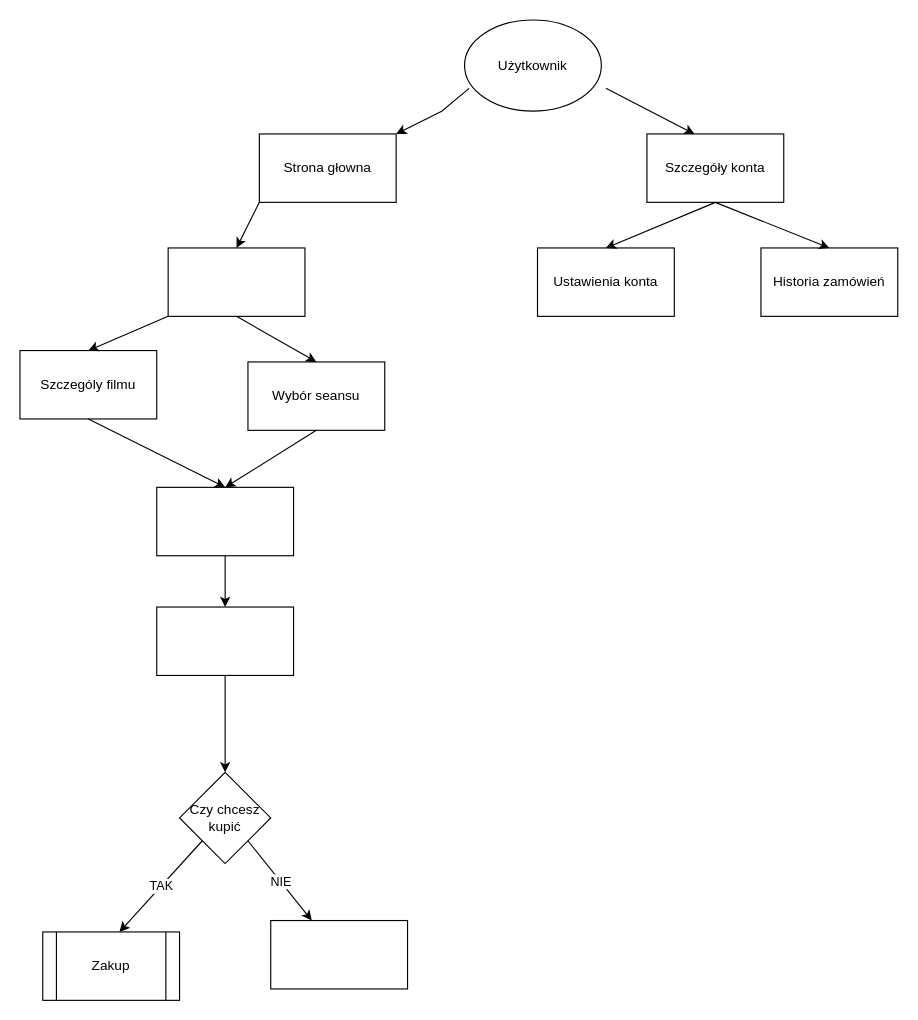
Some shapes in this 918 by 1020 pixel diagram are drawn without their labels. Here are the shapes that lost their labels. From the top down, the box of each, then its label:
(167, 247, 305, 316): Repertuar
(156, 486, 294, 556): Dostępność miejsc
(156, 606, 294, 675): Wybor preferencji biletu
(270, 919, 408, 989): Powrót do strony przeglądania
